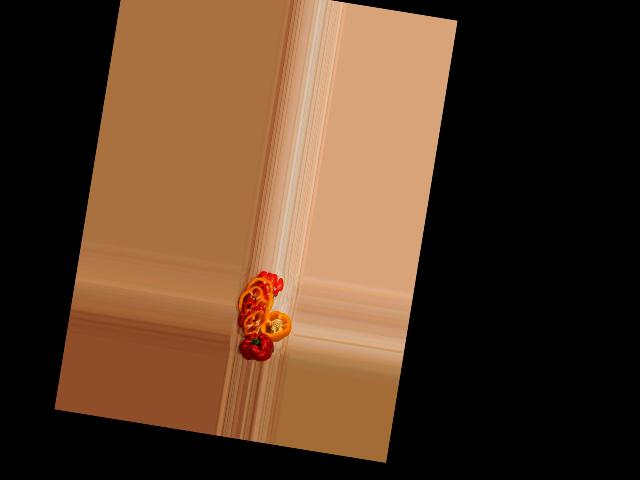bell_pepper: (259, 307, 294, 342)
